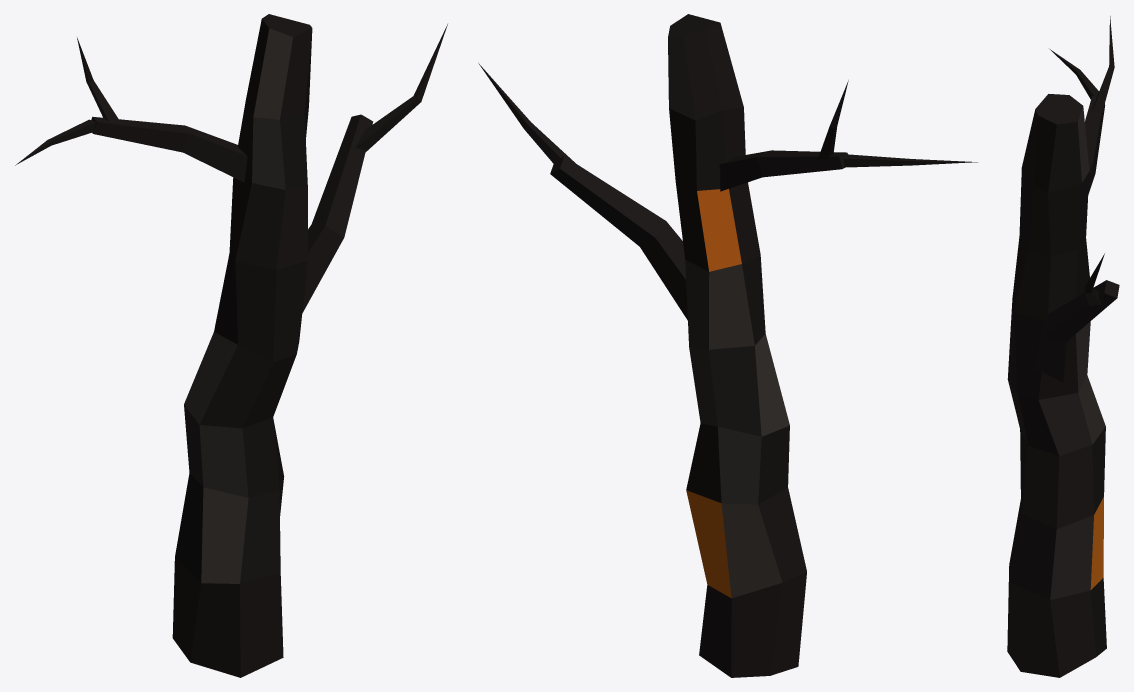
File: Tree_Charred_C.glb
The picture shows the model from 3 angles, left to right: view 1: azimuth 30°, elevation 25°; view 2: azimuth 150°, elevation 25°; view 3: azimuth 270°, elevation 25°; orthographic projection. The views are drawn at different scales.
Parts seen in each view (by area): view 1: Tree_Charred_C; view 2: Tree_Charred_C; view 3: Tree_Charred_C.
Part boxes in pixels (x1,y1,x2,y2): Tree_Charred_C: (15,14,447,677); Tree_Charred_C: (478,14,977,677); Tree_Charred_C: (1007,16,1119,677).
Size of the model in its own units: 2.34 by 3.03 by 0.5241.
